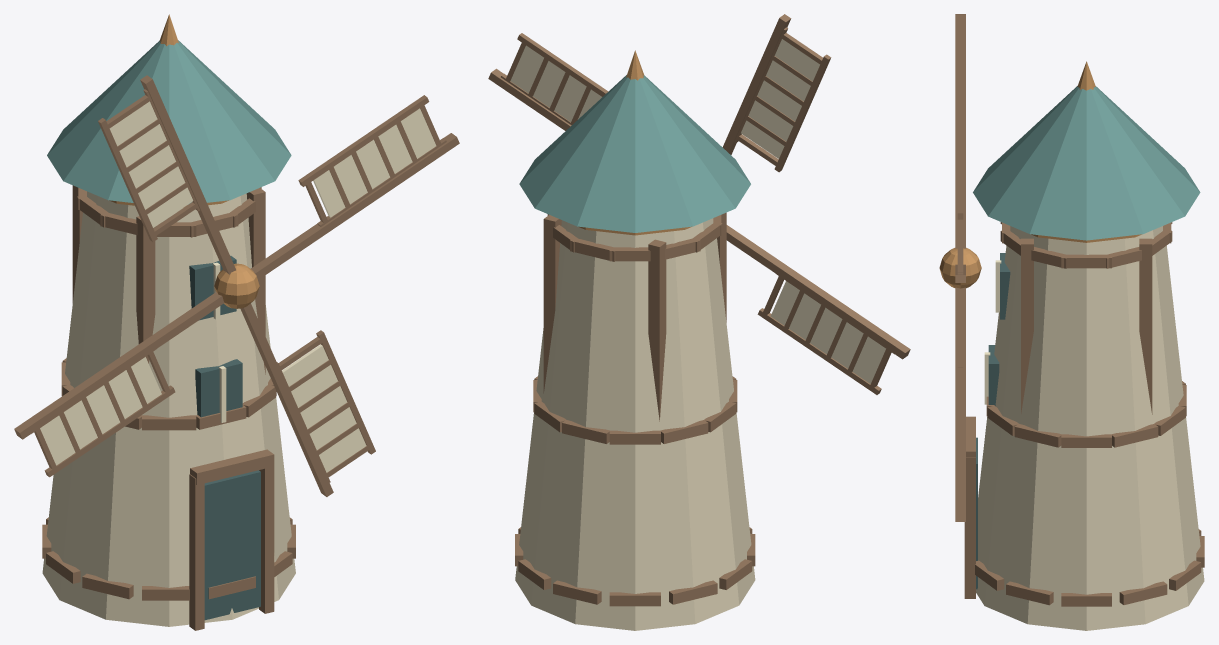
File: orchard-windmill.glb
The picture shows the model from 3 angles, left to right: view 1: azimuth 30°, elevation 25°; view 2: azimuth 150°, elevation 25°; view 3: azimuth 270°, elevation 25°; orthographic projection. The views are drawn at different scales.
Visible parts, largest first — view 1: Lime plaster, Weathered oak, Linen sail, Patinated teal roof, Window recess, Bronze fittings; view 2: Lime plaster, Weathered oak, Patinated teal roof, Linen sail, Bronze fittings; view 3: Lime plaster, Patinated teal roof, Weathered oak, Bronze fittings, Window recess, Linen sail.
Boxes of the visible parts, bbox=[...] form: Lime plaster: bbox=[42, 191, 295, 626]; Weathered oak: bbox=[14, 75, 459, 630]; Linen sail: bbox=[40, 101, 436, 472]; Patinated teal roof: bbox=[47, 40, 291, 204]; Window recess: bbox=[189, 255, 260, 620]; Bronze fittings: bbox=[109, 14, 259, 308]; Lime plaster: bbox=[515, 218, 755, 630]; Weathered oak: bbox=[488, 14, 910, 606]; Patinated teal roof: bbox=[519, 75, 750, 232]; Linen sail: bbox=[510, 39, 885, 383]; Bronze fittings: bbox=[578, 50, 691, 235]; Lime plaster: bbox=[976, 226, 1204, 630]; Patinated teal roof: bbox=[973, 86, 1200, 240]; Weathered oak: bbox=[955, 14, 1204, 606]; Bronze fittings: bbox=[939, 61, 1141, 288]; Window recess: bbox=[976, 253, 1010, 589]; Linen sail: bbox=[984, 260, 1001, 404].
Bounding box in the file's own units: 5.81 × 7.16 × 3.26.
